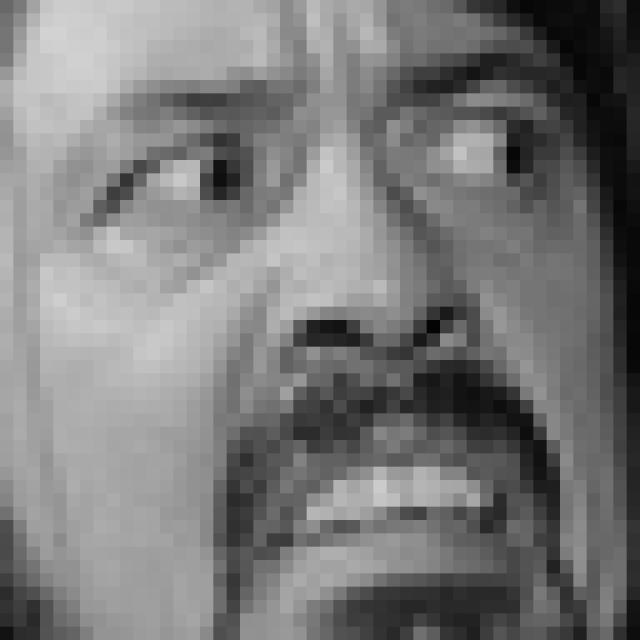disgust: (63, 0, 564, 608)
